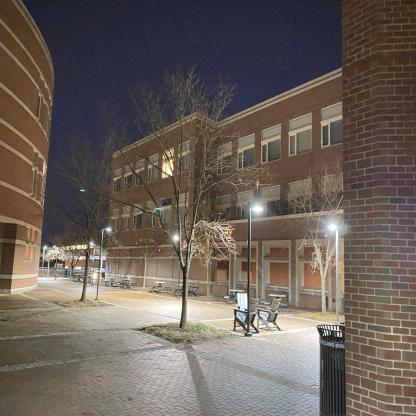eb2: (105, 68, 357, 308)
